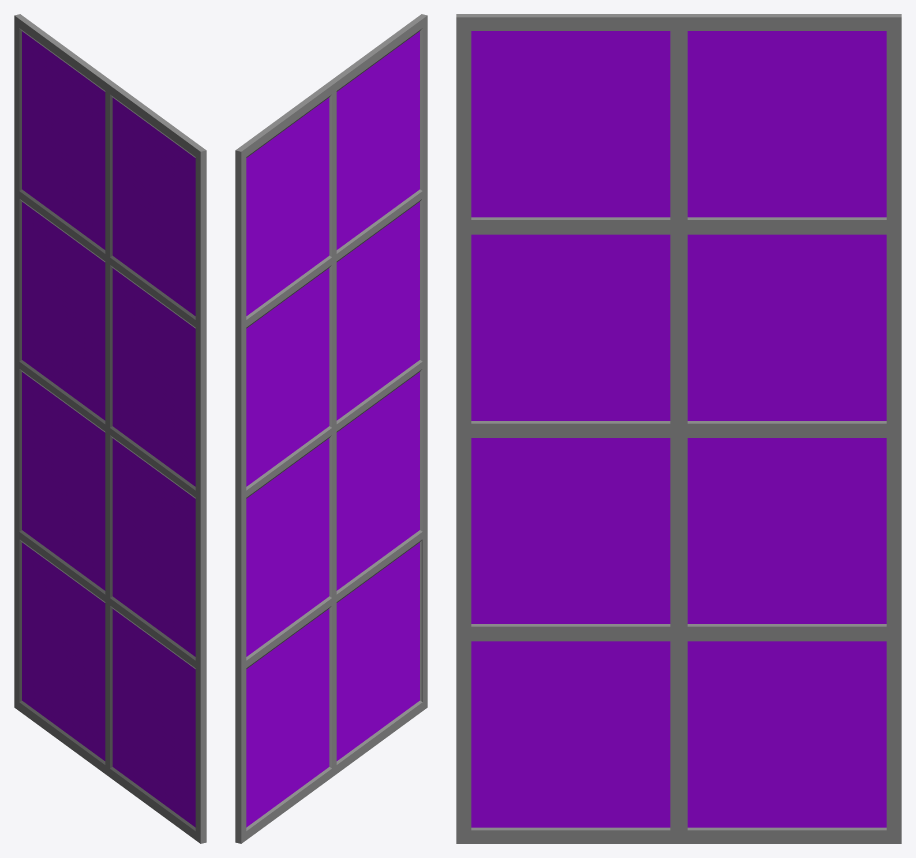
Rendered from Sliding Door 1.fbx.
3 views of the same model, side by side, from view 1: azimuth 30°, elevation 25°; view 2: azimuth 150°, elevation 25°; view 3: azimuth 270°, elevation 25° (orthographic). The views are drawn at different scales.
Visible parts, largest first — view 1: Sliding Door 1; view 2: Sliding Door 1; view 3: Sliding Door 1.
Boxes of the visible parts, x1,y1,x2,y2 form: Sliding Door 1: (14, 14, 206, 843); Sliding Door 1: (235, 14, 427, 843); Sliding Door 1: (456, 14, 901, 843).
Size of the model in its own units: 2.51 by 282 by 138.
